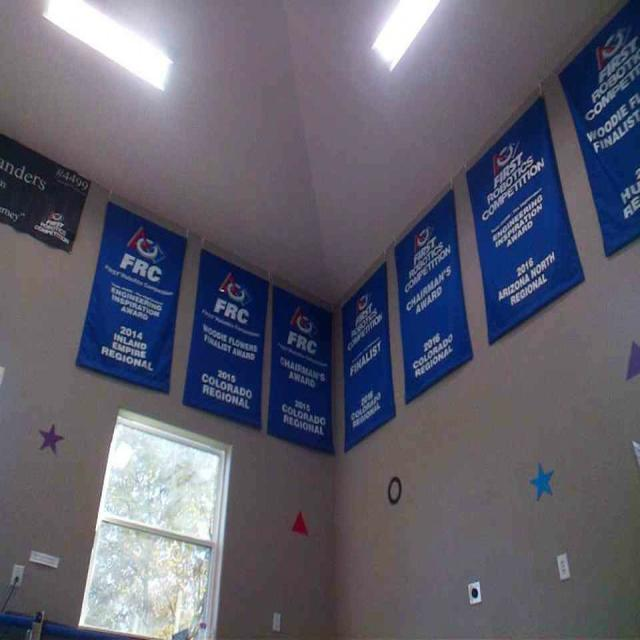ring_black: (386, 475, 401, 504)
star_blue: (528, 462, 554, 499)
star_purple: (39, 422, 63, 454)
triangle_red: (291, 511, 308, 536)
